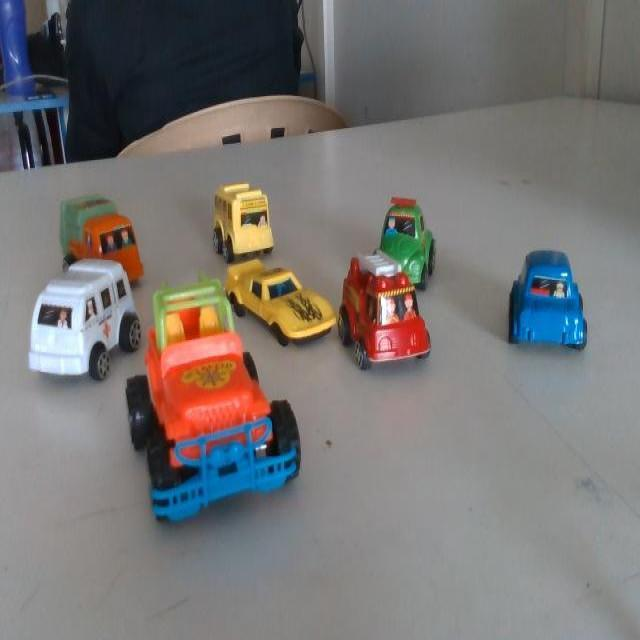car: (141, 330, 305, 534), (491, 236, 609, 390), (227, 254, 334, 358), (346, 252, 431, 380), (27, 270, 124, 374), (65, 190, 145, 286), (220, 172, 282, 260), (378, 202, 440, 286)
